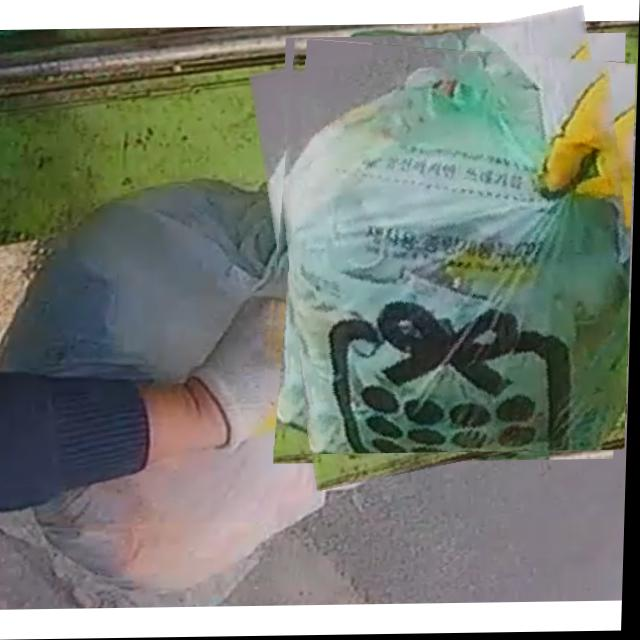general_trashbag: (282, 49, 631, 455)
